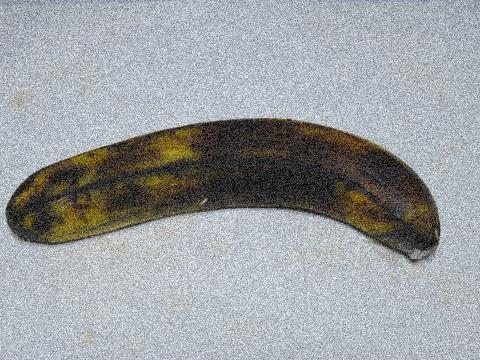overripe: (7, 94, 475, 283)
